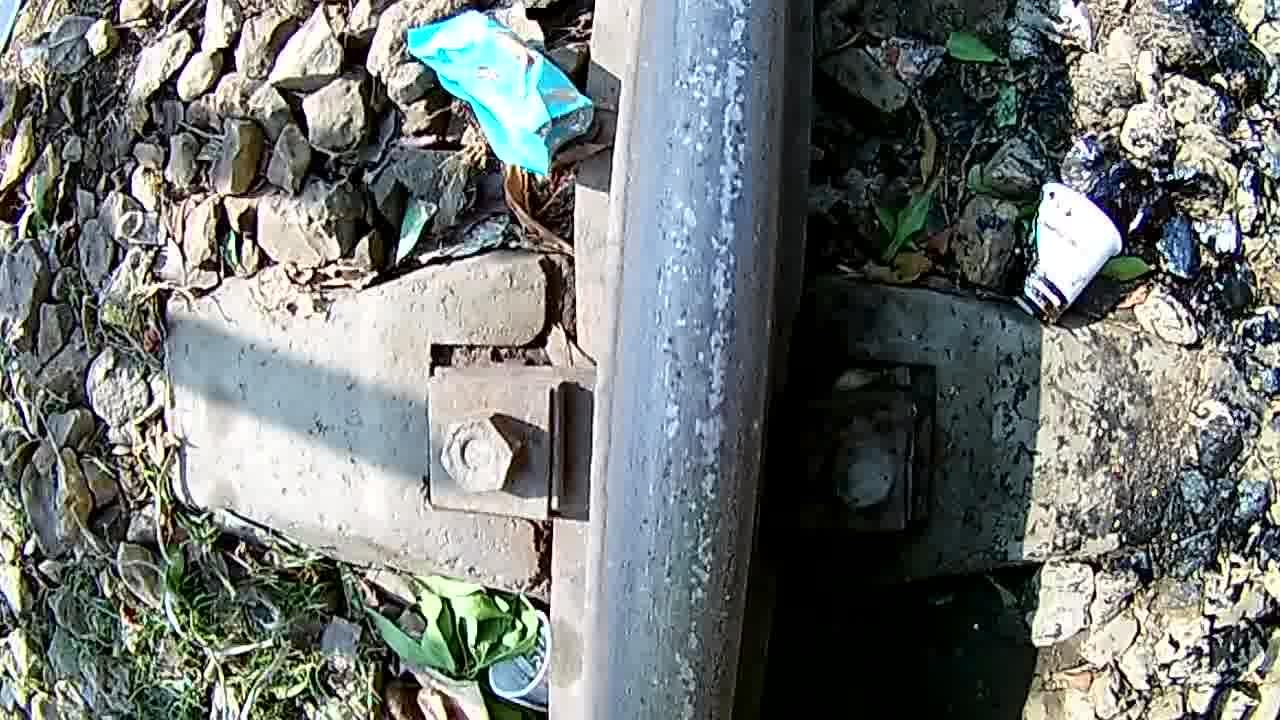clip_missing: (576, 0, 814, 720)
